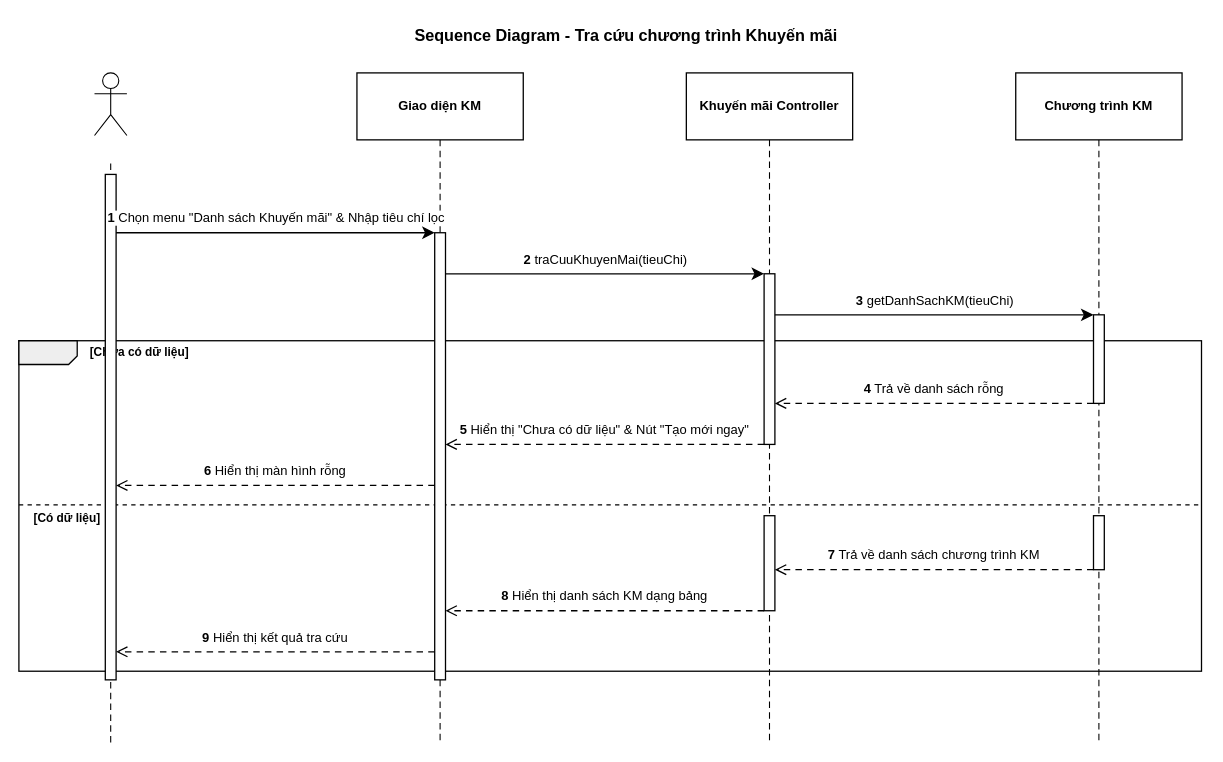
Some shapes in this 1223 by 762 pixel diagram are drawn without their labels. Each missing label, with the centre of its shape:
alt: the point at 47,352
Quản lý: the point at 110,104
